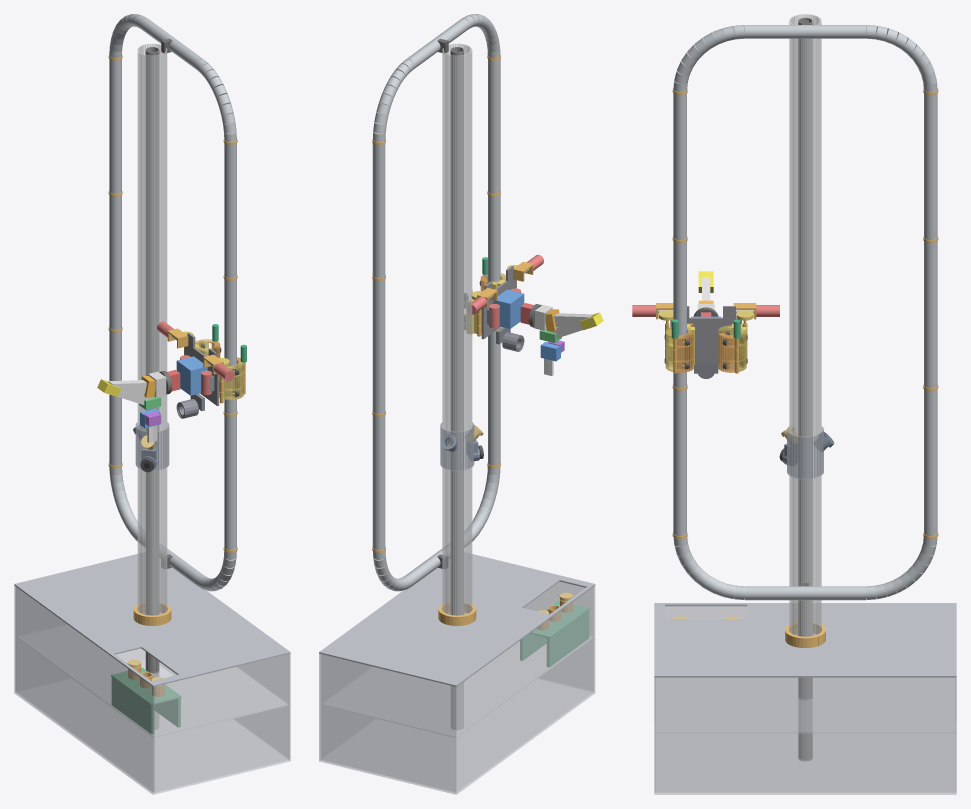
File: transplant-seedling-step4-seat-v6.glb
3 views of the same model, side by side, from view 1: azimuth 30°, elevation 25°; view 2: azimuth 150°, elevation 25°; view 3: azimuth 270°, elevation 25° (orthographic). The views are drawn at different scales.
Bounding box in the file's own units: 0.4837 × 1.9 × 0.751.
